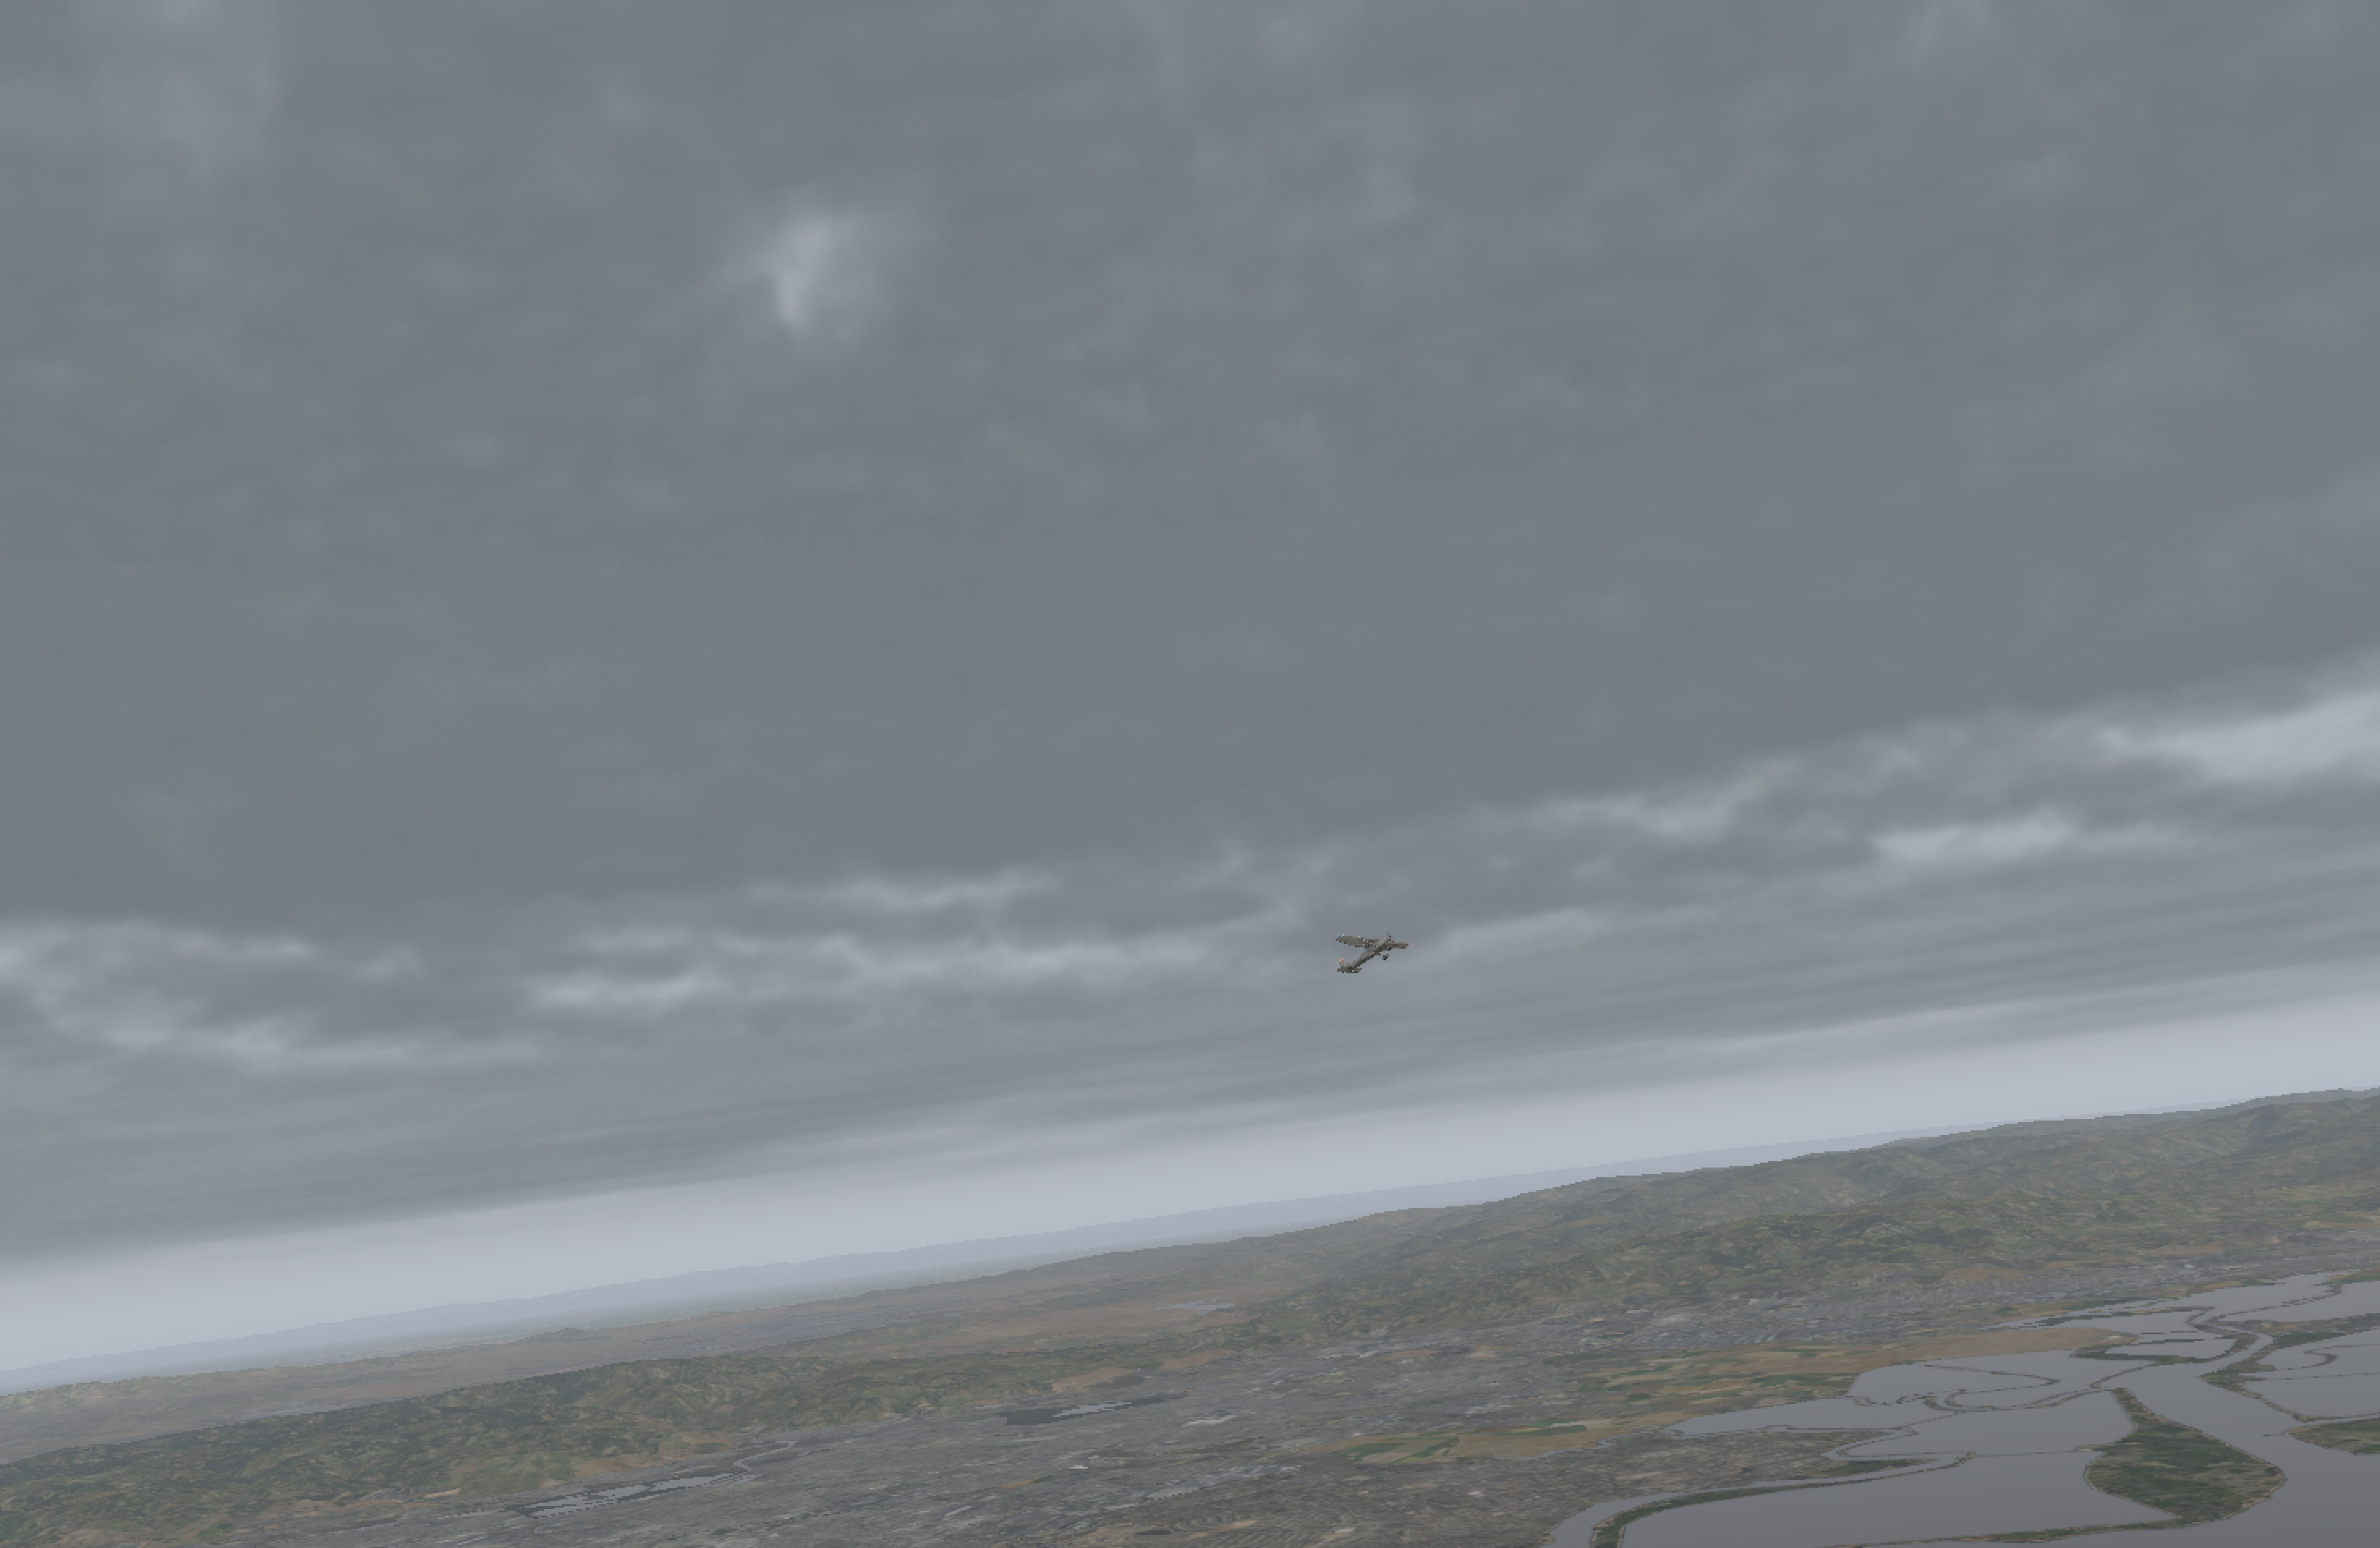aircraft: (1341, 932, 1412, 960)
